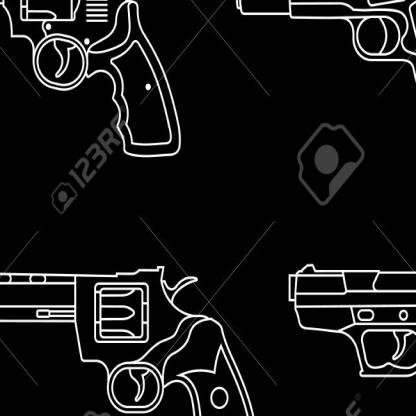gun: (0, 257, 277, 415), (237, 0, 415, 185), (0, 0, 201, 162), (288, 254, 416, 416)
